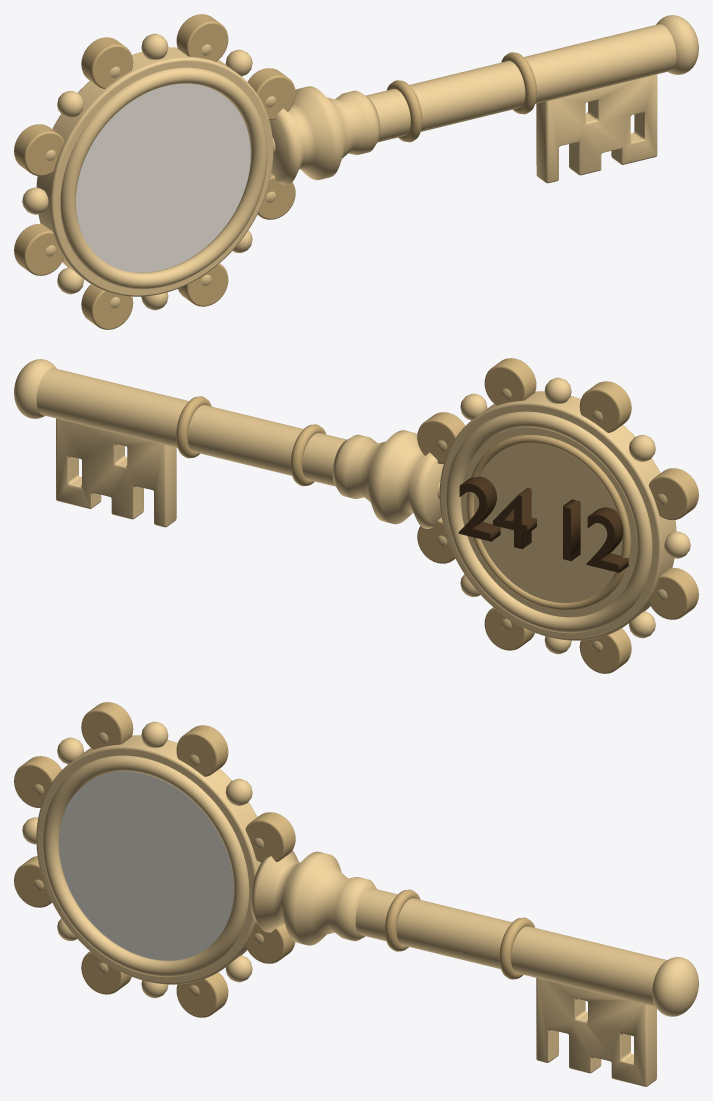
The model's file is key.glb.
The picture shows the model from 3 angles, top to bottom: view 1: azimuth 30°, elevation 25°; view 2: azimuth 150°, elevation 25°; view 3: azimuth 330°, elevation 25°; orthographic projection.
Parts seen in each view (by area): view 1: Drawing, shaft, rim-1, bit, bow_body, collar, lobe2, lobe3, lobe4, lobe1, lobe5, lobe0 (+10 smaller); view 2: shaft, backplate, bow_body, rim1, bit, collar, Engraving, backring, lobe2, lobe3, lobe4, lobe1 (+12 smaller); view 3: Drawing, shaft, rim-1, bit, collar, bow_body, tip, lobe1, lobe2, lobe0, lobe6, lobe3 (+5 smaller).
Part boxes in pixels (x1,y1,x2,y2): Drawing: (76, 83, 250, 272); shaft: (366, 24, 676, 142); rim-1: (60, 67, 267, 289); bit: (536, 74, 657, 183); bow_body: (36, 47, 273, 296); collar: (269, 86, 380, 184); lobe2: (81, 37, 133, 88); lobe3: (14, 124, 63, 176); lobe4: (14, 224, 63, 275); lobe1: (176, 14, 228, 61); lobe5: (81, 284, 133, 329); lobe0: (247, 68, 295, 120); shaft: (36, 368, 346, 486); backplate: (474, 443, 622, 602); bow_body: (439, 391, 676, 640); rim1: (445, 411, 652, 633); bit: (56, 418, 176, 527); collar: (332, 430, 443, 528); Engraving: (458, 476, 628, 572); backring: (466, 435, 630, 610); lobe2: (579, 381, 631, 432); lobe3: (649, 468, 698, 520); lobe4: (649, 568, 698, 619); lobe1: (484, 358, 536, 405); Drawing: (59, 771, 233, 960); shaft: (355, 888, 666, 1006); rim-1: (42, 755, 249, 977); bit: (536, 978, 656, 1086); collar: (250, 850, 376, 945); bow_body: (36, 735, 260, 984); tip: (652, 957, 698, 1016); lobe1: (176, 725, 228, 776); lobe2: (81, 702, 133, 749); lobe0: (245, 812, 295, 862); lobe6: (176, 972, 228, 1017); lobe3: (14, 756, 61, 807).
Bounding box in the file's own units: 1 × 0.4028 × 0.1203.
